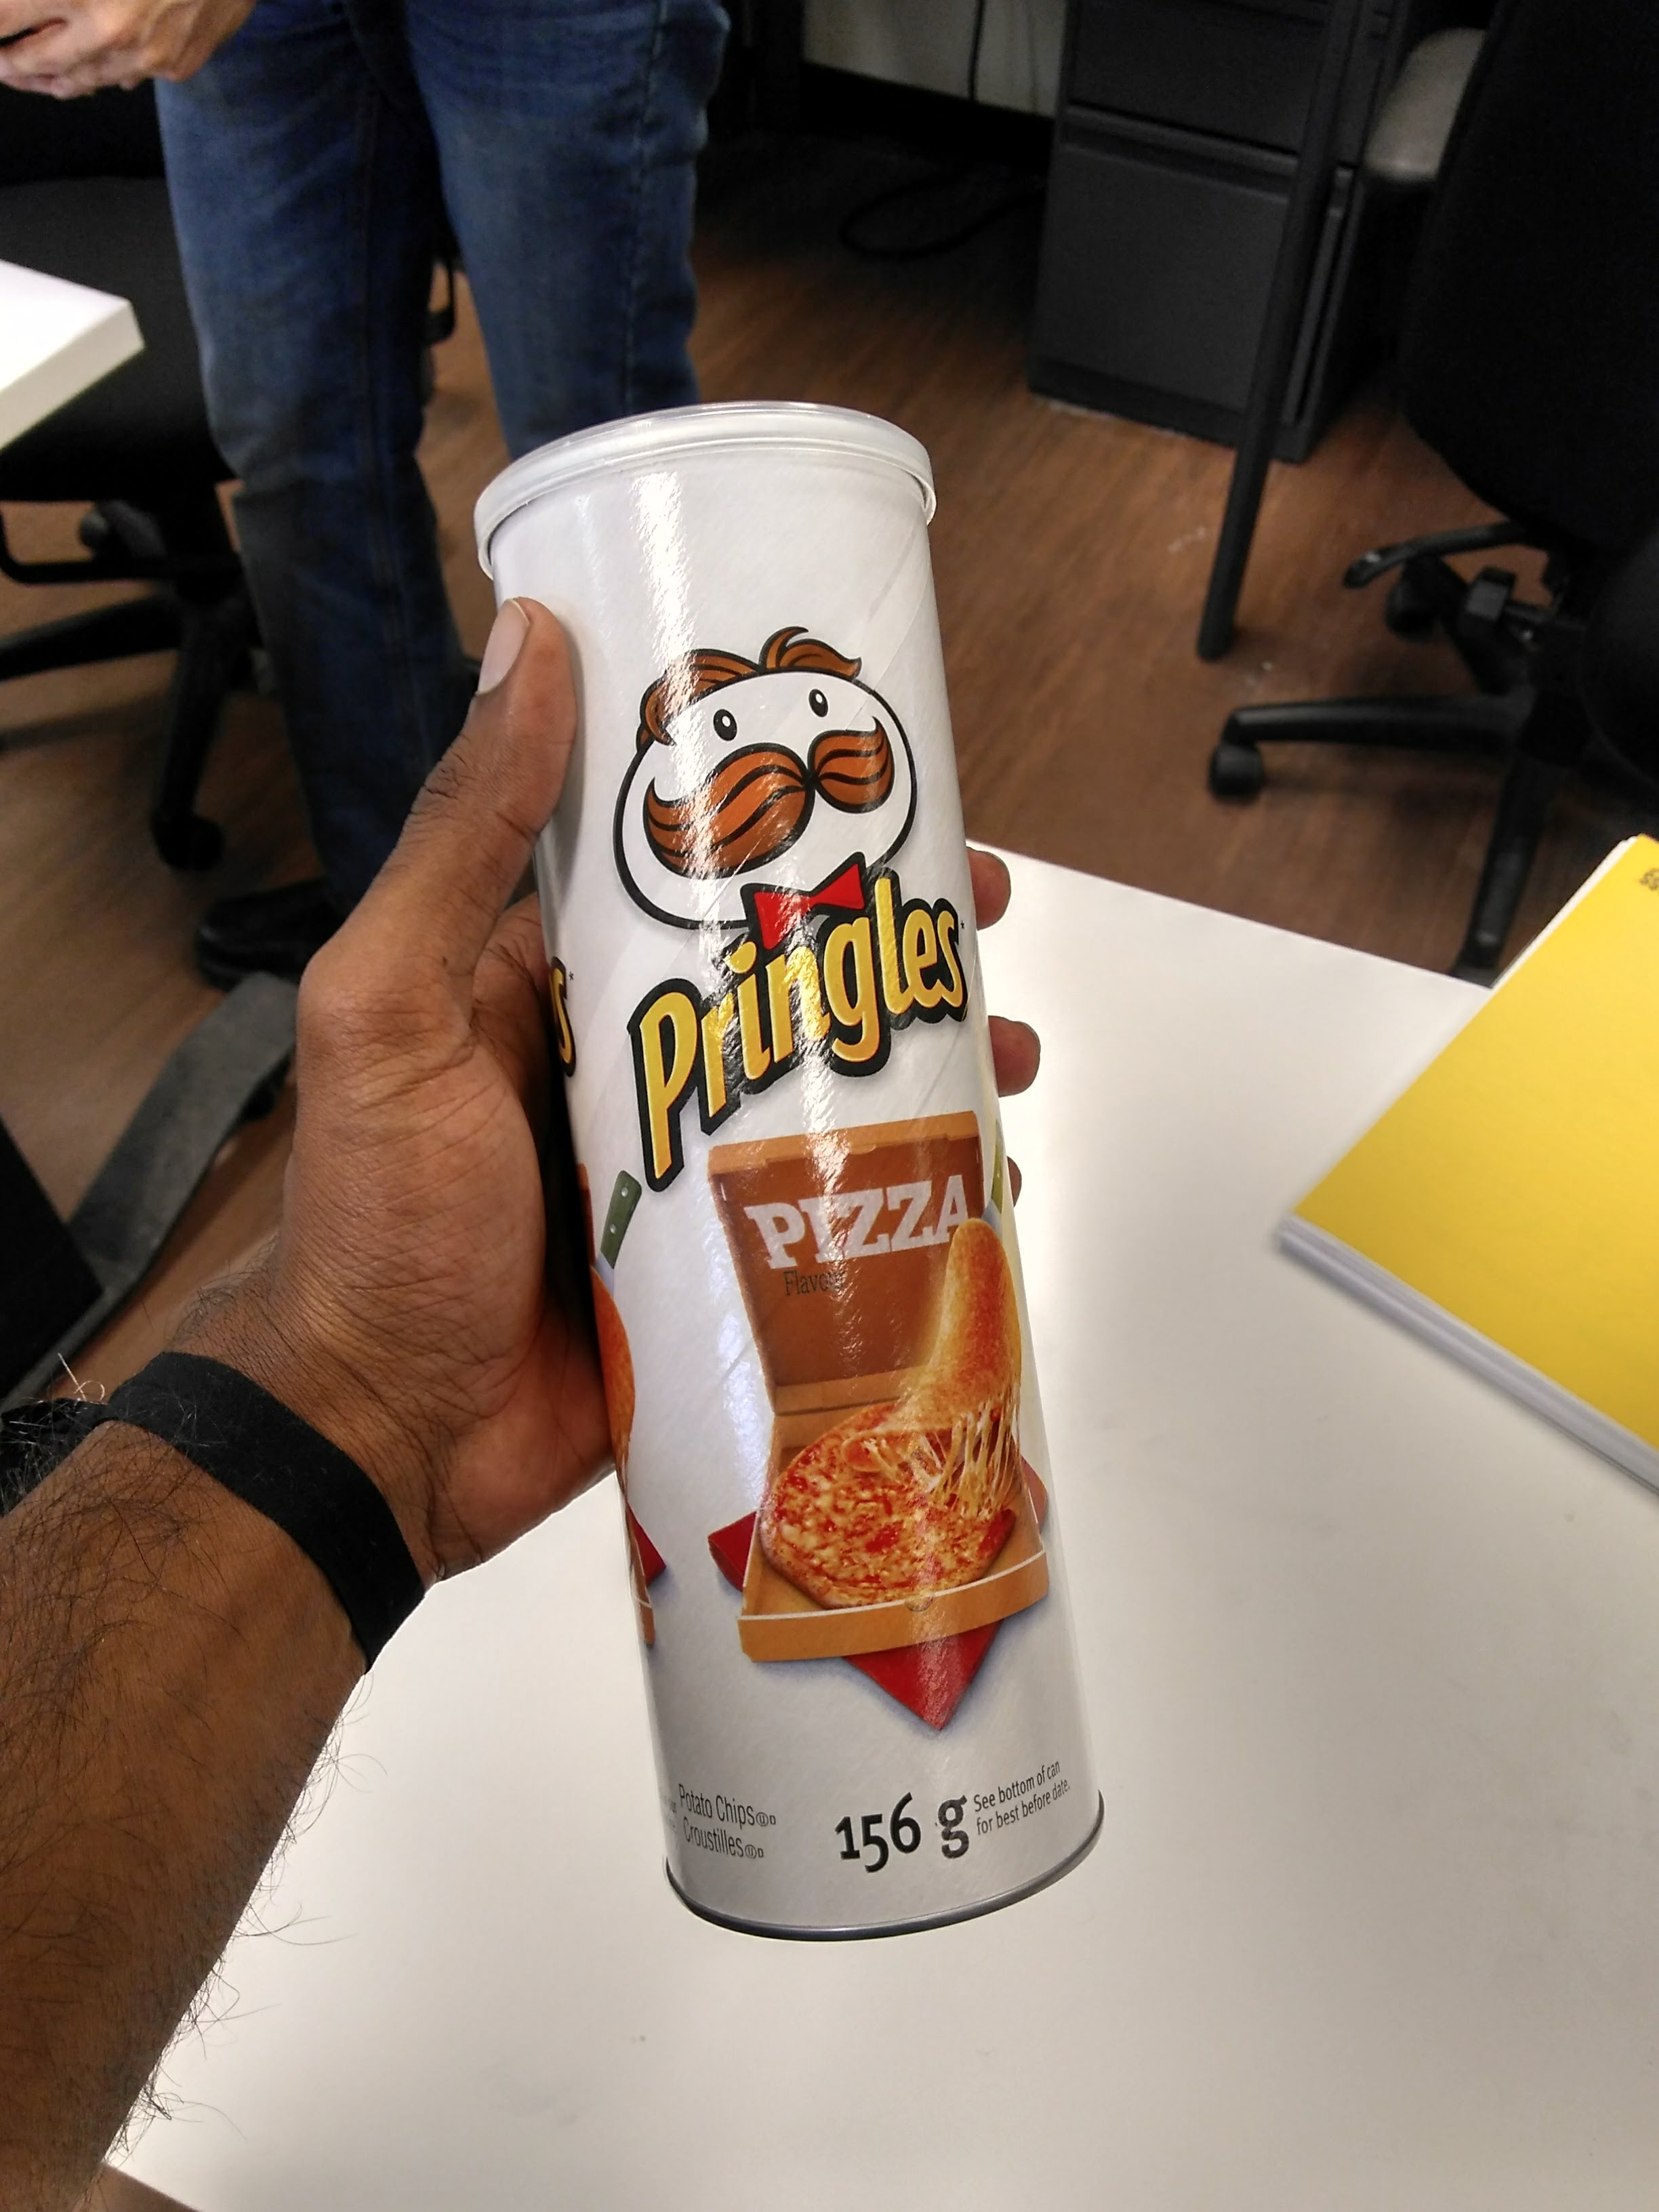pringles: (437, 388, 1136, 1946)
